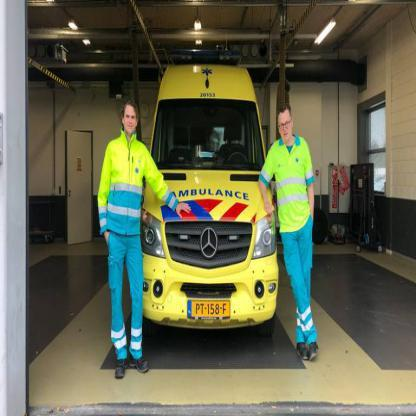Ambulance - v1 Ambulance last generate: (140, 62, 286, 340)
